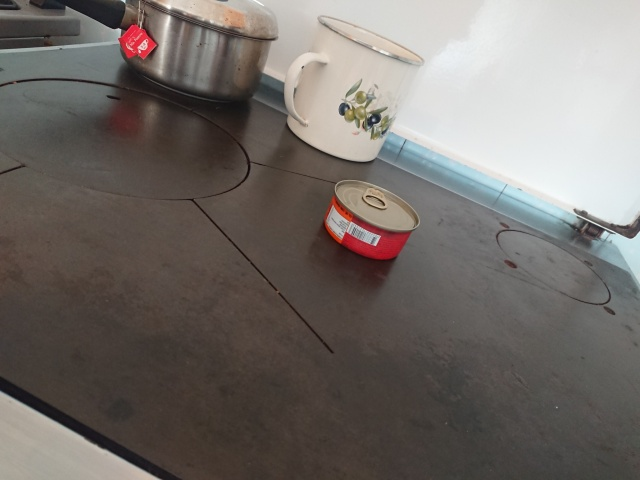Gavrilovic Pork Liver Pate 100g: (322, 178, 422, 263)
